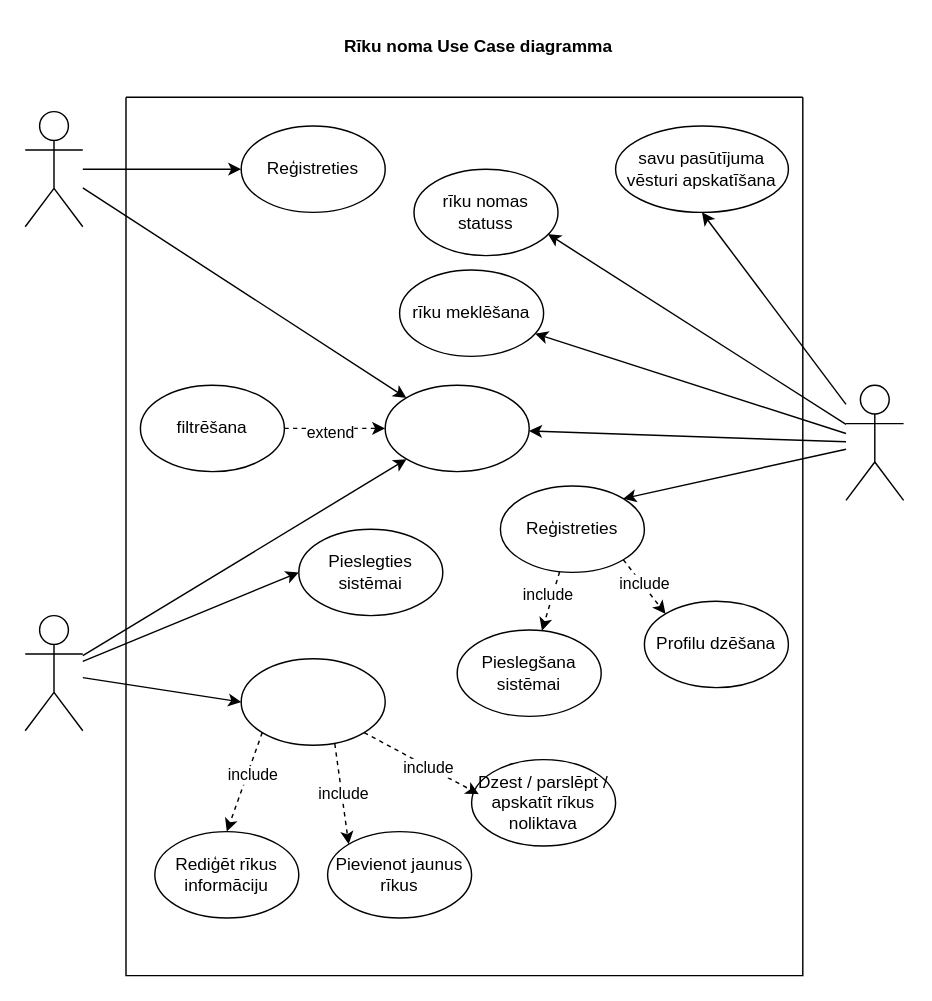
Image size: 932x1001. Some labels were removed from this diagram. The shapes that lost their labels are listed below. From the top down, each one's centre as x and y in pixels, then its label:
At point (53, 168): "Viesis".
At point (456, 428): "Instrumentu katalogu apskatīšana".
At point (874, 442): "Lietotājs".
At point (53, 672): "Admin".
At point (312, 701): "riku katalogu parvaldība".
